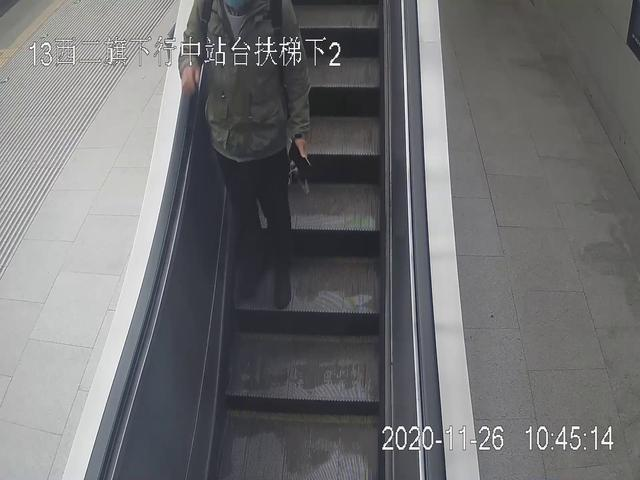person: (179, 1, 309, 312)
